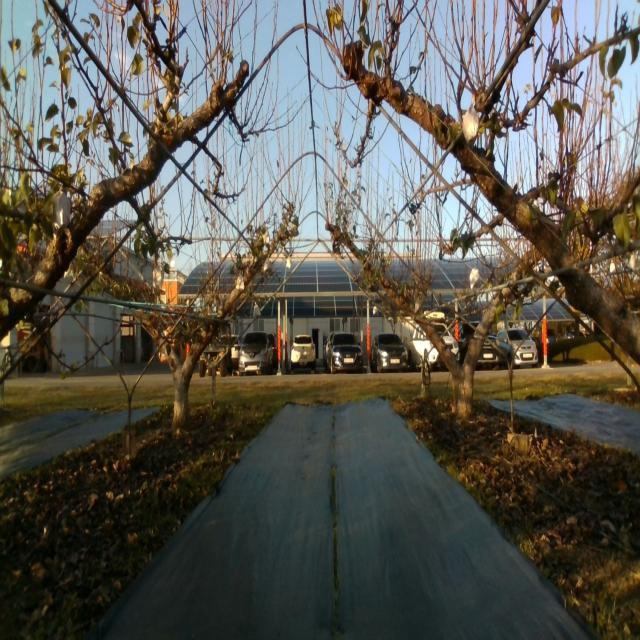pearbags: (52, 190, 71, 227), (462, 105, 479, 144), (152, 264, 164, 288), (469, 268, 480, 290)
